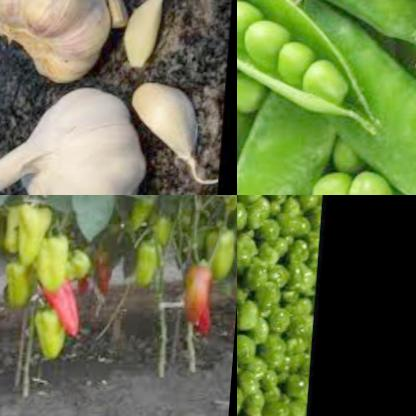bell pepper: (133, 216, 183, 286), (33, 226, 79, 296), (49, 271, 91, 339), (185, 262, 221, 332), (201, 218, 237, 284), (19, 202, 57, 261), (38, 308, 77, 365), (4, 254, 43, 305), (0, 199, 27, 251), (61, 247, 97, 284)
garlic: (0, 79, 157, 195), (0, 0, 129, 82), (130, 78, 212, 180), (119, 0, 172, 79)
peas: (237, 0, 416, 195), (237, 195, 330, 416), (237, 0, 384, 117), (303, 173, 413, 195), (237, 71, 271, 120)
